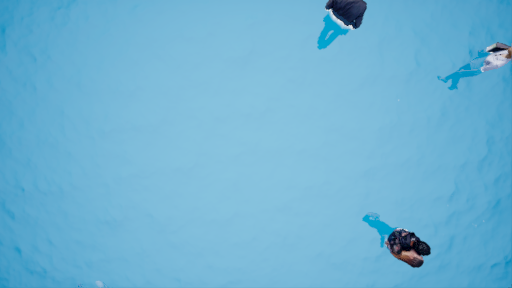person: (438, 34, 512, 97), (361, 210, 434, 270), (312, 1, 368, 59)
